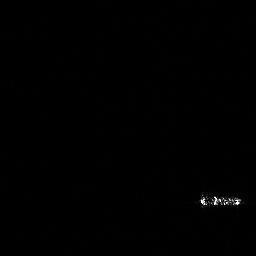ship: (184, 187, 249, 219)
